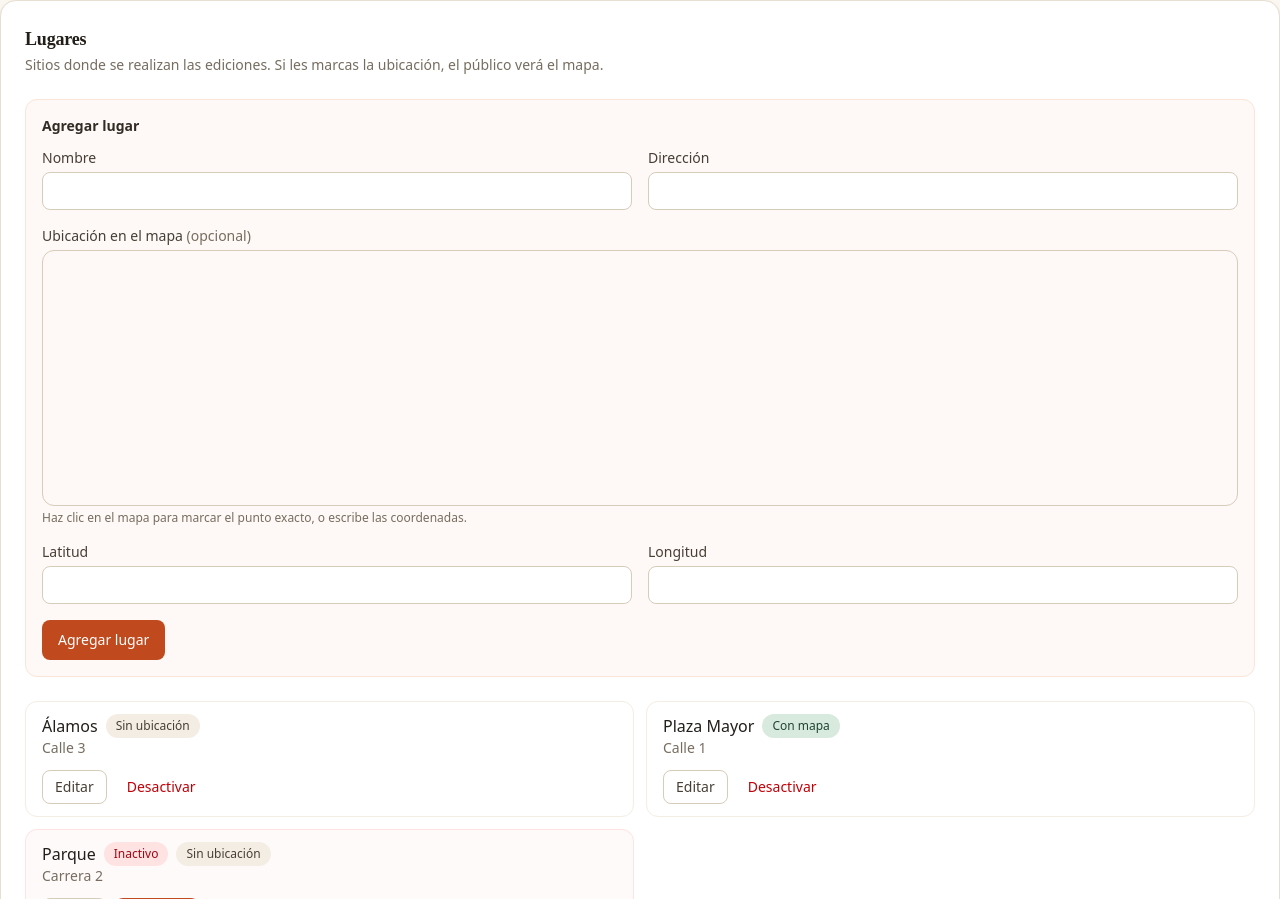
it: GestionLugares: editar › guarda los cambios con actualizarLugar y vuelve al modo crear
Click the button with aria-label "Editar Plaza Mayor" at [695, 787], box top-left (663, 770), bottom-right (728, 804)
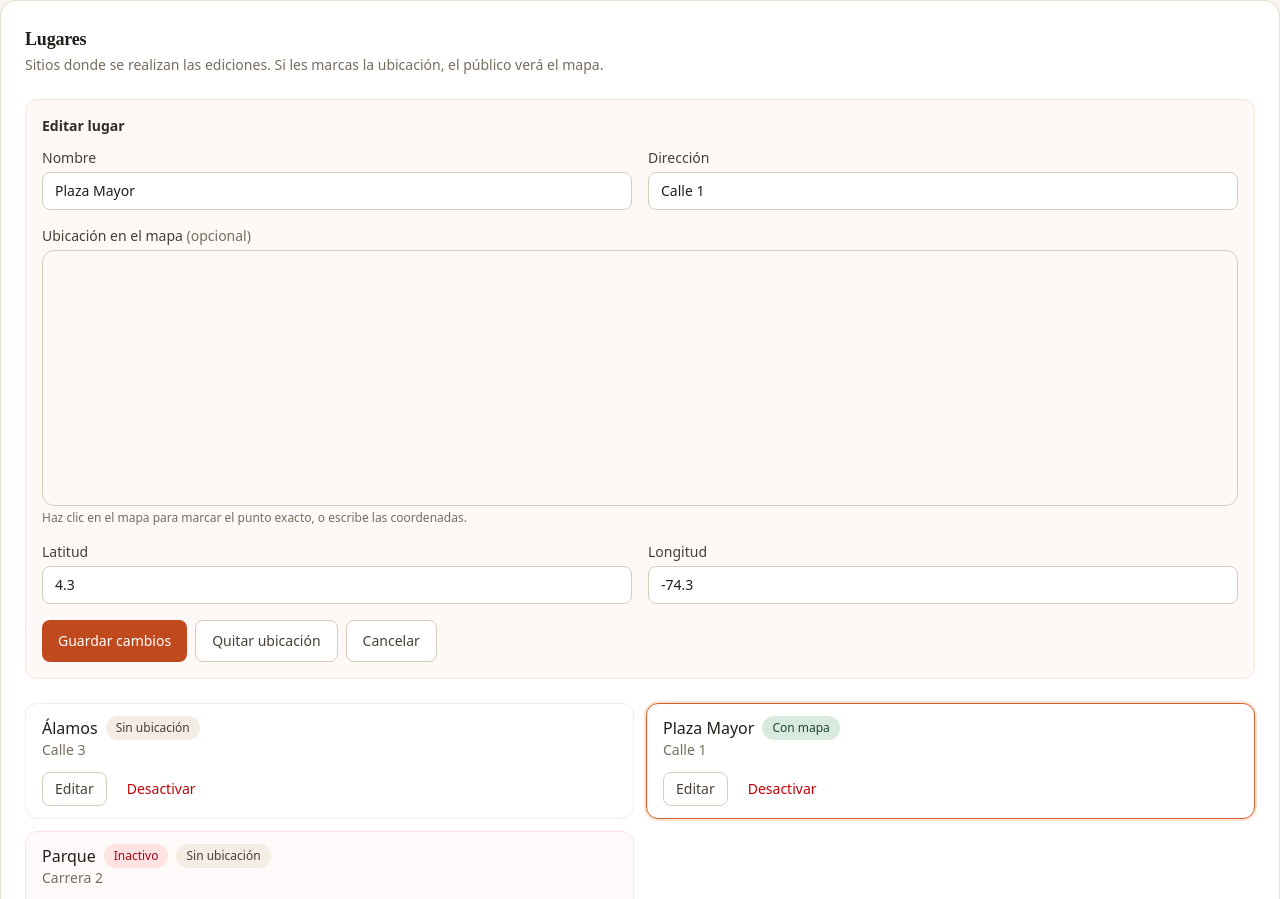
Replace the text in the field labelled "Nombre" with "Plaza Central" at [337, 191], box top-left (42, 172), bottom-right (632, 210)
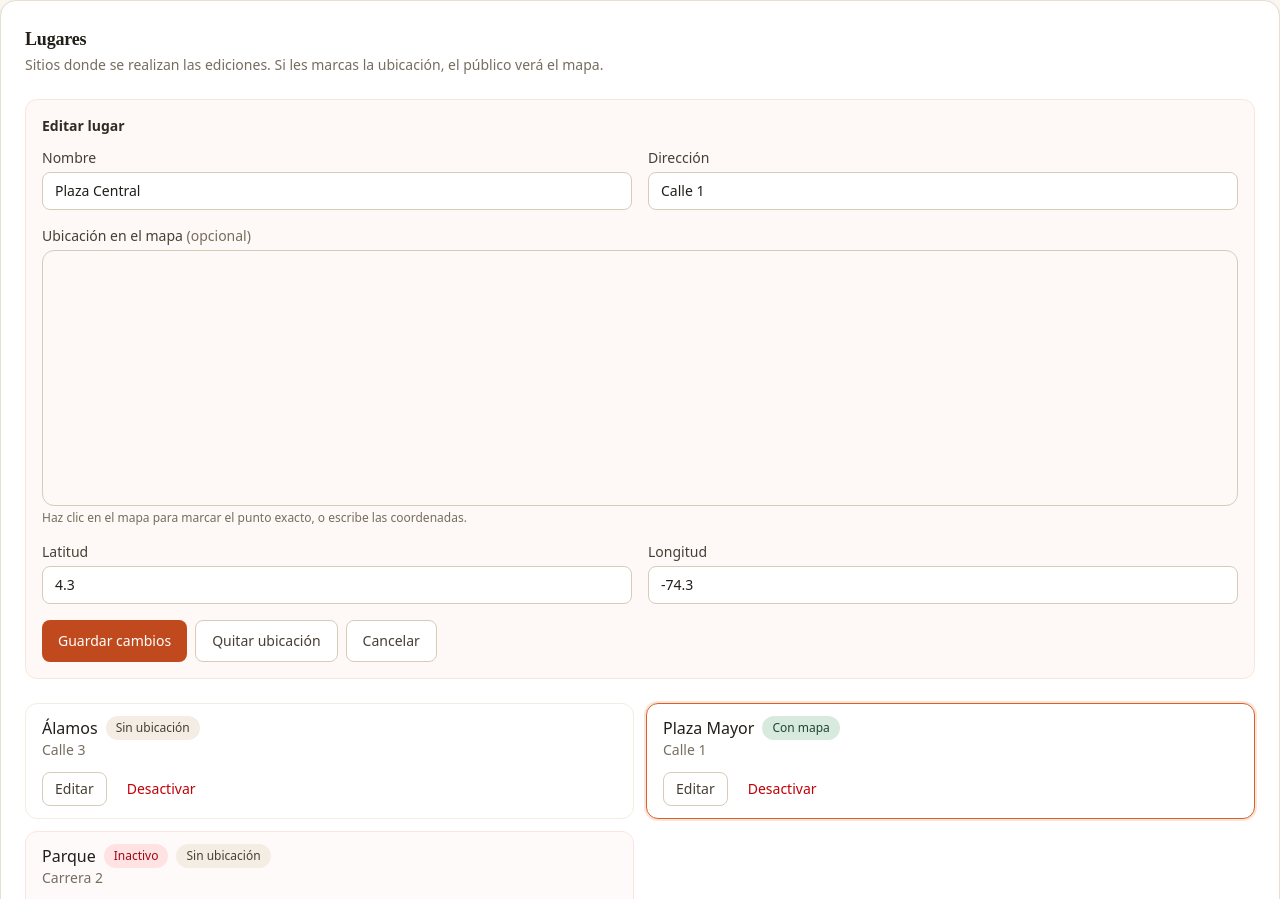
Click the button "Guardar cambios" at [115, 641], box top-left (42, 620), bottom-right (187, 662)
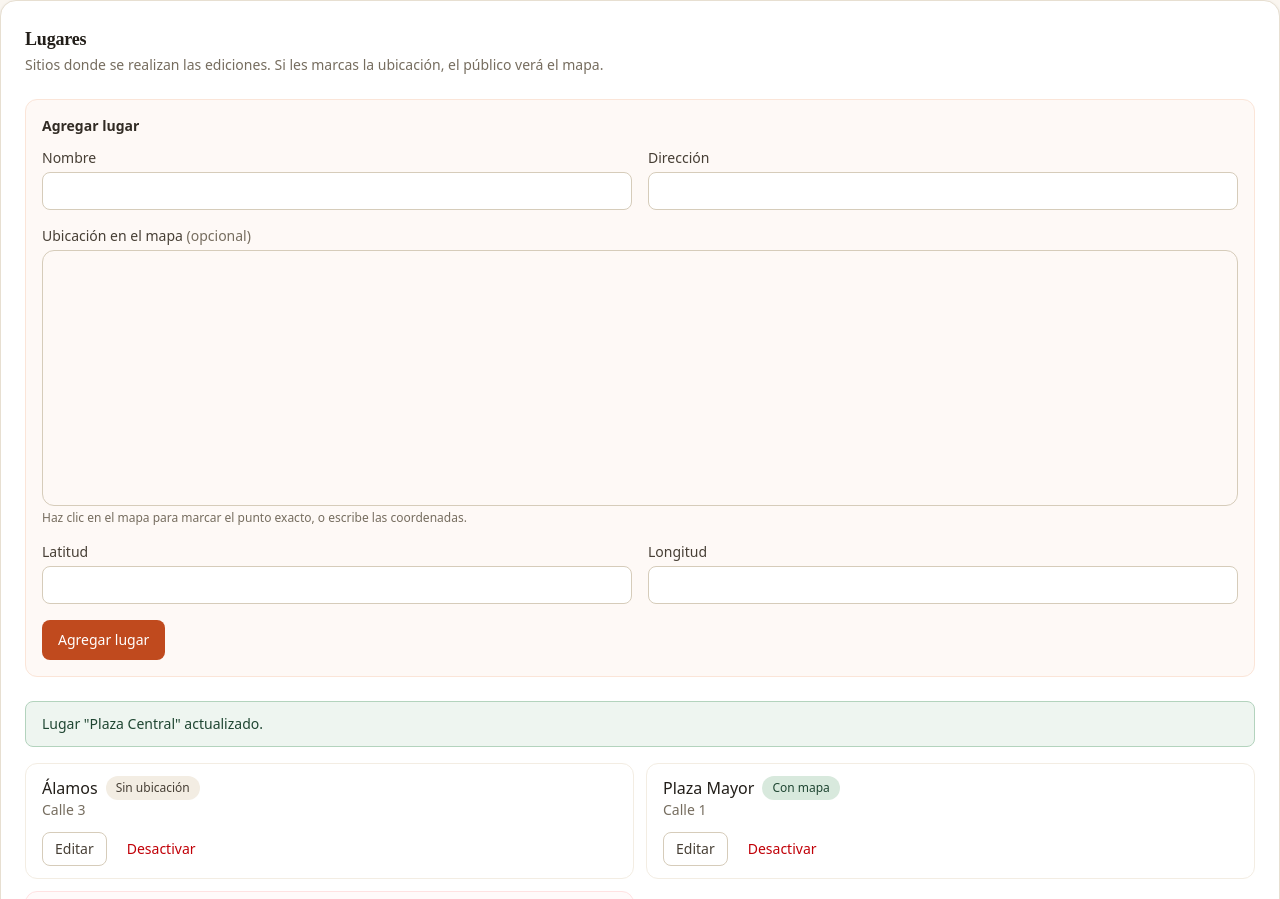
expect the text "Lugar \"Plaza Central\" actualizado." is shown: met, box top-left (25, 701), bottom-right (1255, 747)
expect the heading "Agregar lugar" is shown: met, box top-left (42, 116), bottom-right (139, 135)
